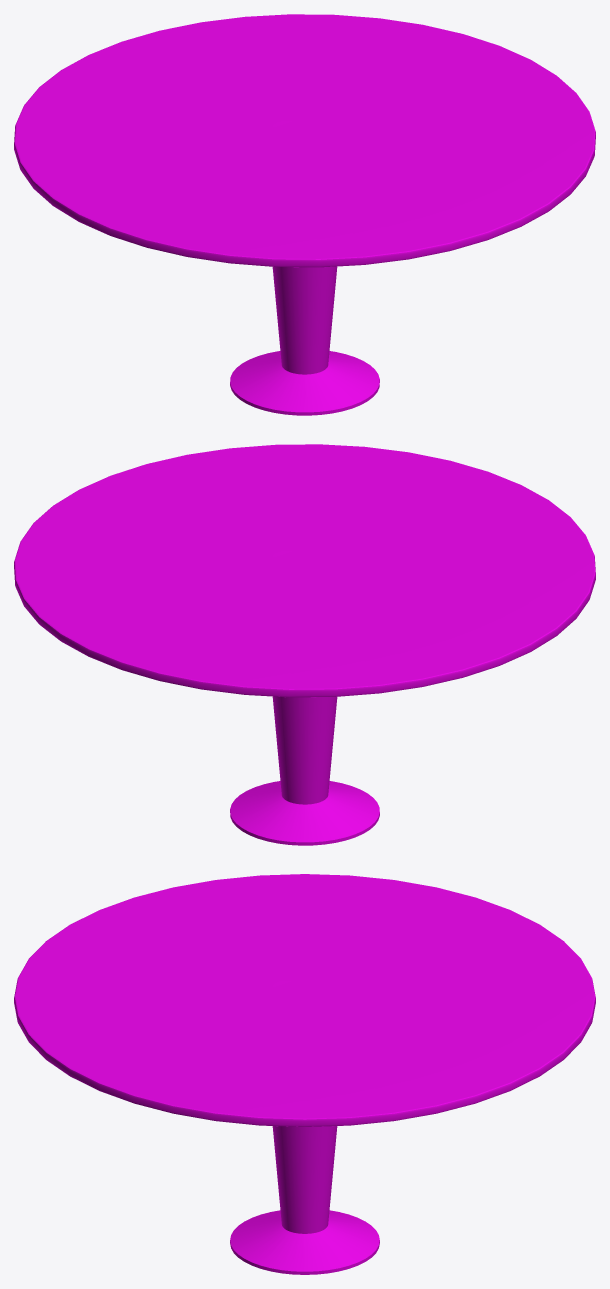
Rendered from OM_Coffie_Table.fbx.
3 renders of one model, top to bottom at view 1: azimuth 30°, elevation 25°; view 2: azimuth 150°, elevation 25°; view 3: azimuth 270°, elevation 25°, orthographic.
Parts seen in each view (by area): view 1: OM_Coffie_Table; view 2: OM_Coffie_Table; view 3: OM_Coffie_Table.
Part boxes in pixels (x1,y1,x2,y2): OM_Coffie_Table: [14, 14, 595, 415]; OM_Coffie_Table: [14, 444, 595, 845]; OM_Coffie_Table: [14, 874, 595, 1274].
Size of the model in its own units: 3.94 by 1.85 by 3.94.
